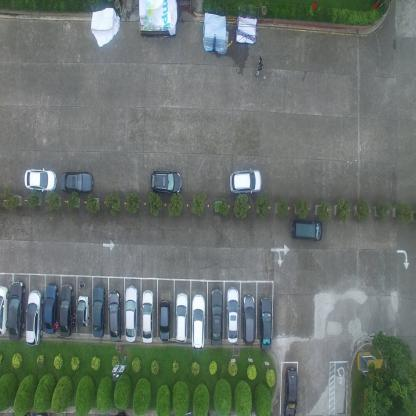car: (25, 288, 43, 348), (8, 278, 24, 341), (229, 168, 262, 196), (59, 282, 74, 340), (151, 169, 182, 197), (124, 283, 138, 343), (290, 217, 322, 243), (25, 167, 58, 192), (191, 294, 205, 352), (62, 170, 94, 195), (108, 289, 123, 342), (43, 282, 58, 335), (141, 289, 155, 345), (226, 285, 239, 345), (210, 288, 223, 348), (259, 294, 272, 352), (283, 365, 298, 415), (242, 293, 256, 346), (92, 286, 106, 338), (175, 293, 188, 345), (159, 298, 171, 344), (0, 285, 9, 337), (76, 294, 89, 329)
